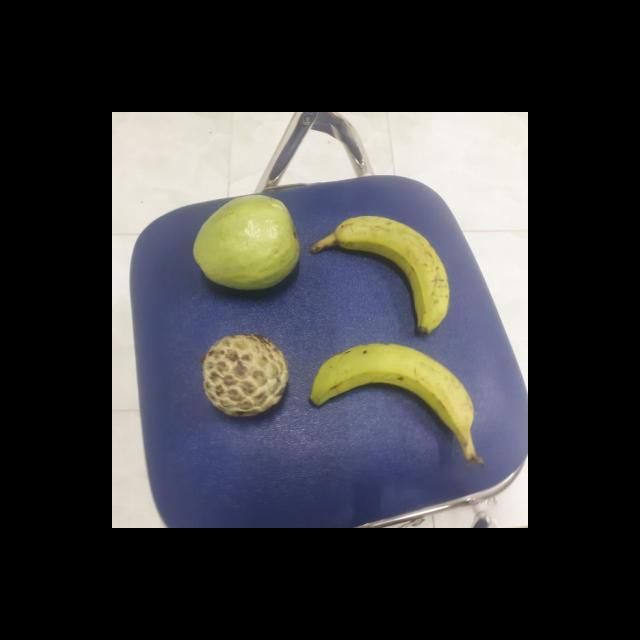Sakya fruit: (197, 334, 289, 416)
banana: (303, 342, 473, 449), (306, 218, 452, 334)
guava: (189, 193, 300, 290)
